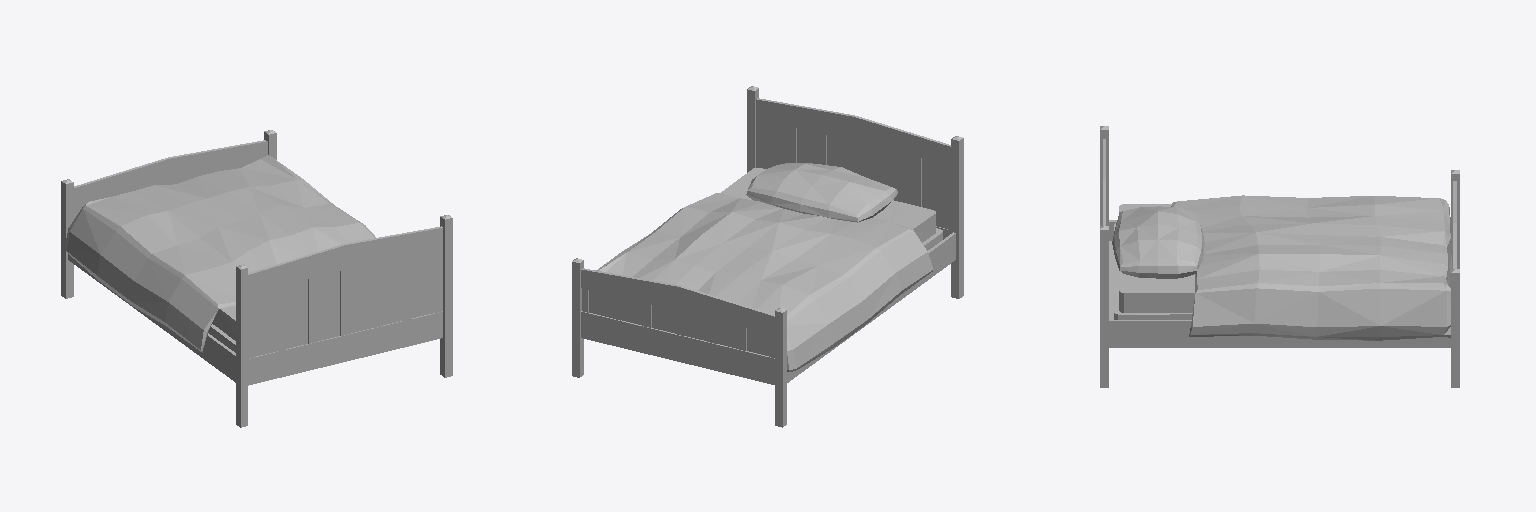
File: bed02.obj
3 renders of one model, left to right at view 1: azimuth 30°, elevation 25°; view 2: azimuth 150°, elevation 25°; view 3: azimuth 270°, elevation 25°, orthographic.
Parts seen in each view (by area): view 1: mesh; view 2: mesh; view 3: mesh.
Part boxes in pixels (bbox=[...]): mesh: bbox=[61, 130, 452, 427]; mesh: bbox=[572, 86, 963, 427]; mesh: bbox=[1100, 126, 1459, 387].
Bounding box in the file's own units: 87.05 × 59.11 × 121.